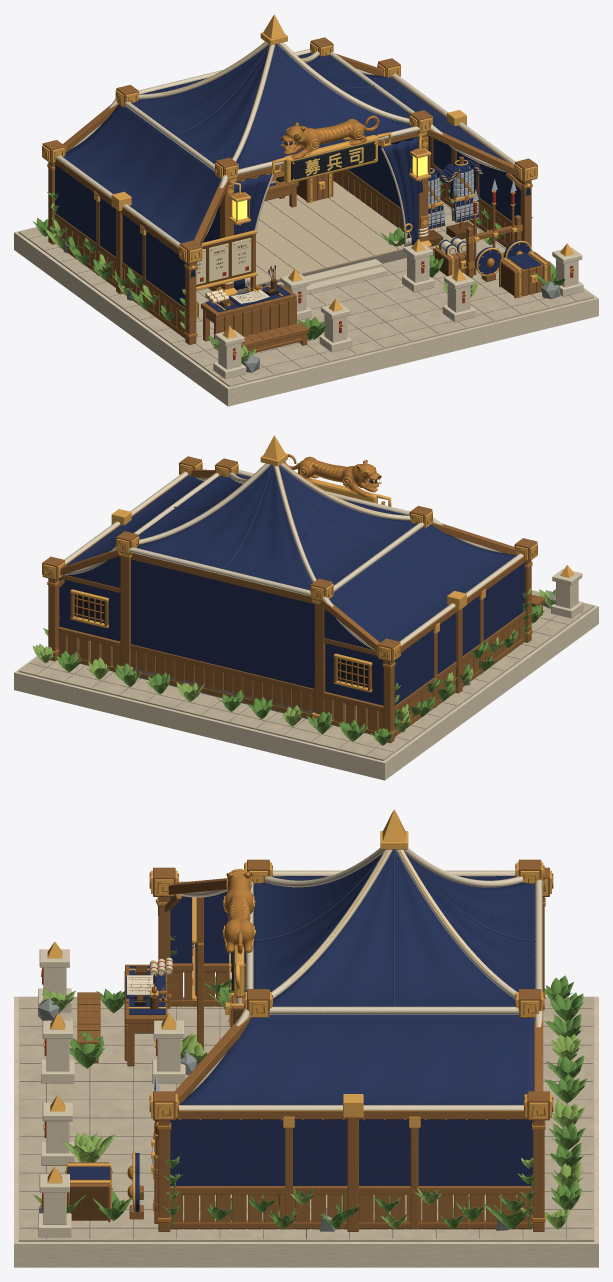
Rendered from recruitment-v20.glb.
3 views of the same model, one above another, from view 1: azimuth 30°, elevation 25°; view 2: azimuth 150°, elevation 25°; view 3: azimuth 270°, elevation 25° (orthographic). The views are drawn at different scales.
Parts seen in each view (by area): view 1: SM_MB_Batch_6_MB_MAT_indigo_cloth.005, SM_MB_Batch_0_MB_MAT_ivory.005, SM_MB_Batch_1_MB_MAT_paving.005, SM_MB_Batch_10_MB_MAT_indigo_cloth.005, SM_MB_Batch_3_MB_MAT_ochre_wood.005, SM_MB_Batch_5_MB_MAT_light_wood.005, SM_MB_Batch_23_MB_MAT_warm_stone_tile.003, SM_MB_Batch_4_MB_MAT_antique_gold.005, SM_MB_Batch_7_MB_MAT_ivory.005, SM_MB_Batch_15_MB_MAT_tiger_bronze.005, SM_MB_Batch_21_MB_MAT_paper_leaf.003, SM_MB_Batch_2_MB_MAT_warm_mortar.005 (+9 smaller); view 2: SM_MB_Batch_6_MB_MAT_indigo_cloth.005, SM_MB_Batch_10_MB_MAT_indigo_cloth.005, SM_MB_Batch_0_MB_MAT_ivory.005, SM_MB_Batch_3_MB_MAT_ochre_wood.005, SM_MB_Batch_5_MB_MAT_light_wood.005, SM_MB_Batch_1_MB_MAT_paving.005, SM_MB_Batch_7_MB_MAT_ivory.005, SM_MB_Batch_4_MB_MAT_antique_gold.005, SM_MB_Batch_21_MB_MAT_paper_leaf.003, SM_MB_Batch_15_MB_MAT_tiger_bronze.005, SM_MB_Batch_24_MB_MAT_paper_leaf_light.003, SM_MB_Batch_2_MB_MAT_warm_mortar.005 (+3 smaller); view 3: SM_MB_Batch_6_MB_MAT_indigo_cloth.005, SM_MB_Batch_1_MB_MAT_paving.005, SM_MB_Batch_10_MB_MAT_indigo_cloth.005, SM_MB_Batch_0_MB_MAT_ivory.005, SM_MB_Batch_3_MB_MAT_ochre_wood.005, SM_MB_Batch_5_MB_MAT_light_wood.005, SM_MB_Batch_7_MB_MAT_ivory.005, SM_MB_Batch_21_MB_MAT_paper_leaf.003, SM_MB_Batch_4_MB_MAT_antique_gold.005, SM_MB_Batch_24_MB_MAT_paper_leaf_light.003, SM_MB_Batch_15_MB_MAT_tiger_bronze.005, SM_MB_Batch_2_MB_MAT_warm_mortar.005 (+5 smaller).
Boxes of the visible parts, box(x1,y1,x2,y2) form: SM_MB_Batch_6_MB_MAT_indigo_cloth.005: box(63, 44, 505, 243); SM_MB_Batch_0_MB_MAT_ivory.005: box(14, 147, 598, 406); SM_MB_Batch_1_MB_MAT_paving.005: box(18, 200, 594, 386); SM_MB_Batch_10_MB_MAT_indigo_cloth.005: box(55, 136, 541, 312); SM_MB_Batch_3_MB_MAT_ochre_wood.005: box(48, 135, 550, 352); SM_MB_Batch_5_MB_MAT_light_wood.005: box(42, 37, 549, 352); SM_MB_Batch_23_MB_MAT_warm_stone_tile.003: box(249, 181, 404, 286); SM_MB_Batch_4_MB_MAT_antique_gold.005: box(42, 43, 574, 354); SM_MB_Batch_7_MB_MAT_ivory.005: box(56, 42, 515, 247); SM_MB_Batch_15_MB_MAT_tiger_bronze.005: box(42, 45, 546, 337); SM_MB_Batch_21_MB_MAT_paper_leaf.003: box(33, 181, 564, 350); SM_MB_Batch_2_MB_MAT_warm_mortar.005: box(29, 200, 575, 380); SM_MB_Batch_6_MB_MAT_indigo_cloth.005: box(65, 465, 516, 642); SM_MB_Batch_10_MB_MAT_indigo_cloth.005: box(59, 556, 524, 705); SM_MB_Batch_0_MB_MAT_ivory.005: box(14, 569, 598, 780); SM_MB_Batch_3_MB_MAT_ochre_wood.005: box(48, 555, 542, 743); SM_MB_Batch_5_MB_MAT_light_wood.005: box(42, 456, 545, 735); SM_MB_Batch_1_MB_MAT_paving.005: box(18, 590, 594, 760); SM_MB_Batch_7_MB_MAT_ivory.005: box(64, 462, 523, 649); SM_MB_Batch_4_MB_MAT_antique_gold.005: box(42, 457, 574, 718); SM_MB_Batch_21_MB_MAT_paper_leaf.003: box(43, 601, 544, 745); SM_MB_Batch_15_MB_MAT_tiger_bronze.005: box(44, 454, 537, 735); SM_MB_Batch_24_MB_MAT_paper_leaf_light.003: box(32, 588, 555, 733); SM_MB_Batch_2_MB_MAT_warm_mortar.005: box(30, 612, 583, 754); SM_MB_Batch_6_MB_MAT_indigo_cloth.005: box(179, 850, 534, 1104); SM_MB_Batch_1_MB_MAT_paving.005: box(18, 996, 594, 1241); SM_MB_Batch_10_MB_MAT_indigo_cloth.005: box(67, 897, 532, 1211); SM_MB_Batch_0_MB_MAT_ivory.005: box(14, 949, 598, 1267); SM_MB_Batch_3_MB_MAT_ochre_wood.005: box(67, 894, 544, 1231); SM_MB_Batch_5_MB_MAT_light_wood.005: box(68, 859, 549, 1228); SM_MB_Batch_7_MB_MAT_ivory.005: box(178, 848, 542, 1110); SM_MB_Batch_21_MB_MAT_paper_leaf.003: box(33, 949, 587, 1229); SM_MB_Batch_4_MB_MAT_antique_gold.005: box(41, 862, 551, 1212); SM_MB_Batch_24_MB_MAT_paper_leaf_light.003: box(42, 936, 585, 1229); SM_MB_Batch_15_MB_MAT_tiger_bronze.005: box(65, 865, 553, 1222); SM_MB_Batch_2_MB_MAT_warm_mortar.005: box(20, 998, 592, 1239).
Bounding box in the file's own units: 10 × 6.32 × 10.
Materials: 28 (5 with a texture image).
